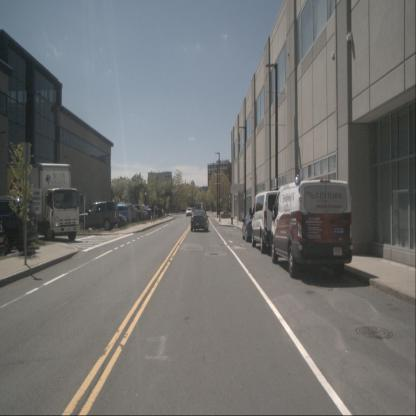human-pedestrian-adult: (151, 202, 155, 224)
vehicle-car: (270, 179, 354, 278), (252, 190, 300, 254), (0, 195, 38, 252), (77, 201, 119, 230), (102, 203, 137, 224), (242, 212, 262, 244), (112, 202, 144, 221), (101, 206, 132, 224), (120, 203, 149, 222), (98, 211, 127, 229), (191, 209, 209, 231), (127, 204, 151, 220), (0, 221, 8, 256), (141, 205, 161, 219), (146, 204, 165, 218), (186, 207, 192, 217)
vehicle-truck: (6, 162, 80, 242)
